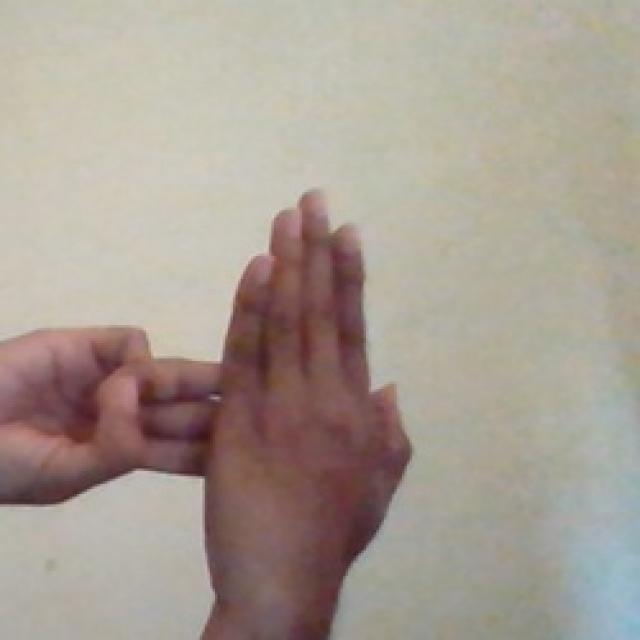Alphabet-M: (0, 190, 476, 624)
